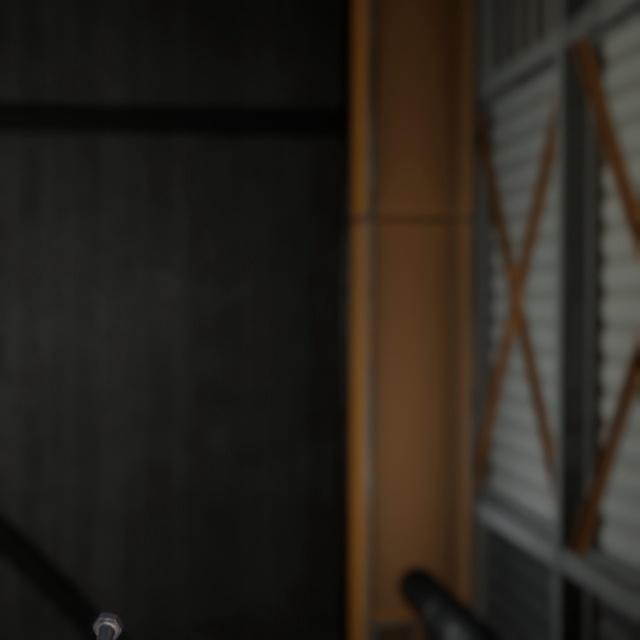bolt: (84, 585, 127, 640)
